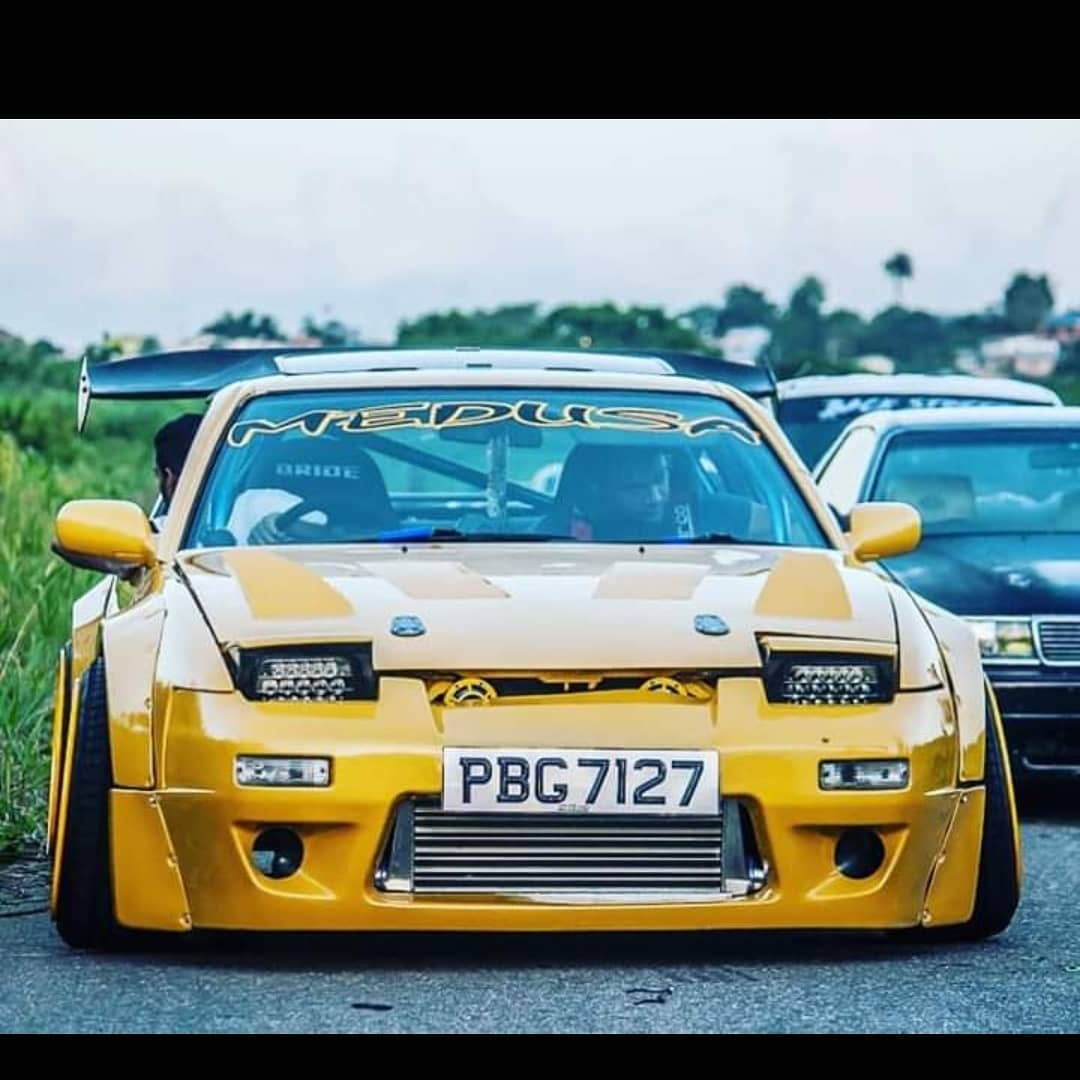License-Plate: (443, 746, 717, 811)
